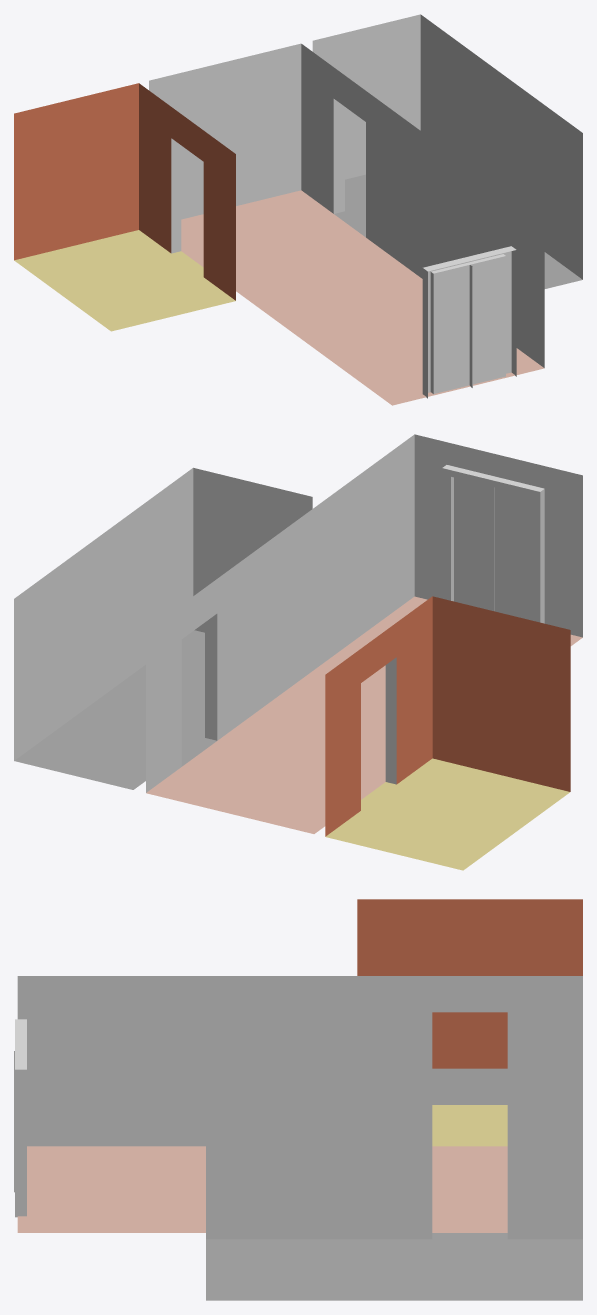
File: office_layout.glb
The picture shows the model from 3 angles, top to bottom: view 1: azimuth 30°, elevation 25°; view 2: azimuth 150°, elevation 25°; view 3: azimuth 270°, elevation 25°; orthographic projection. The views are drawn at different scales.
Parts seen in each view (by area): view 1: Office_layout, Lift_door, Lift; view 2: Office_layout, Lift_door, Lift; view 3: Office_layout, Lift.
Part boxes in pixels (<box>): Office_layout: <box>14,14,582,405</box>; Lift_door: <box>433,256,505,393</box>; Lift: <box>422,246,516,398</box>; Office_layout: <box>14,434,582,870</box>; Lift_door: <box>454,477,531,620</box>; Lift: <box>442,465,544,623</box>; Office_layout: <box>17,899,582,1300</box>; Lift: <box>15,1019,26,1217</box>.
Size of what is drawn, in the model's own units: 12.22 by 4.23 by 12.74.
